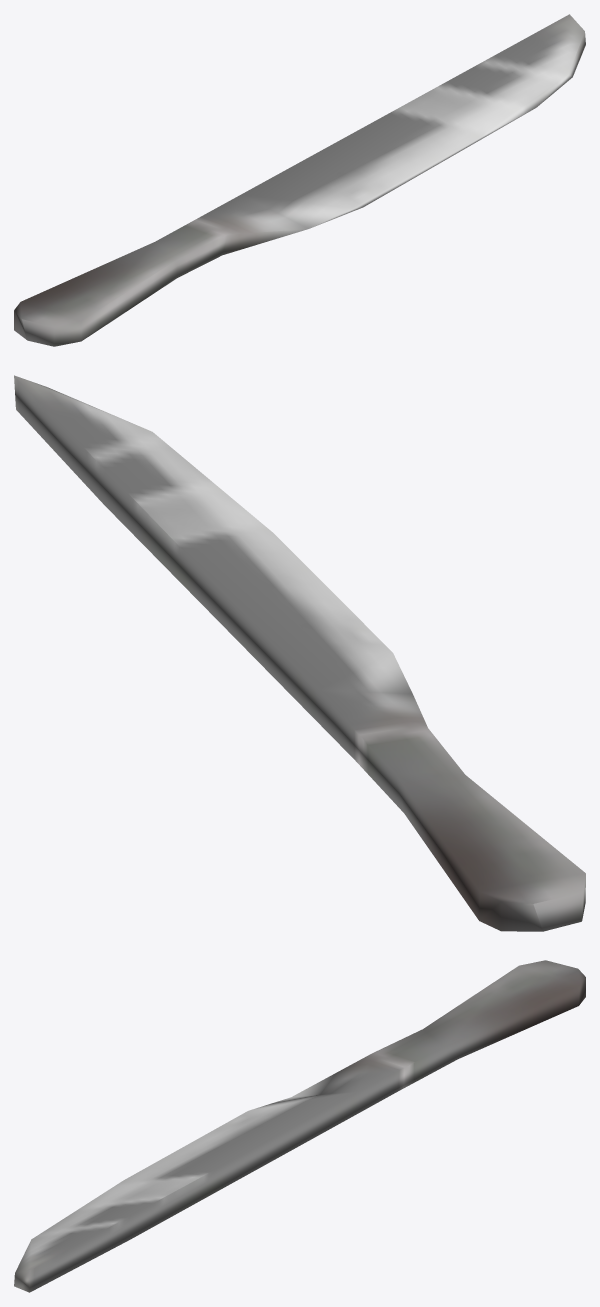
The model's file is 8aa7f741-2bde-4a01-b3d5-8a521bd8001d.glb.
3 views of the same model, one above another, from view 1: azimuth 90°, elevation 25°; view 2: azimuth 150°, elevation 25°; view 3: azimuth 270°, elevation 25° (orthographic). The views are drawn at different scales.
Visible parts, largest first — view 1: ButterKnife; view 2: ButterKnife; view 3: ButterKnife.
Part boxes in pixels (box(x1,y1,x2,y2)): ButterKnife: box(14, 14, 585, 346); ButterKnife: box(14, 375, 585, 931); ButterKnife: box(14, 960, 585, 1292).
Bounding box in the file's own units: 0.2495 × 0.00872 × 0.1935.
1 material, 1 textured.
